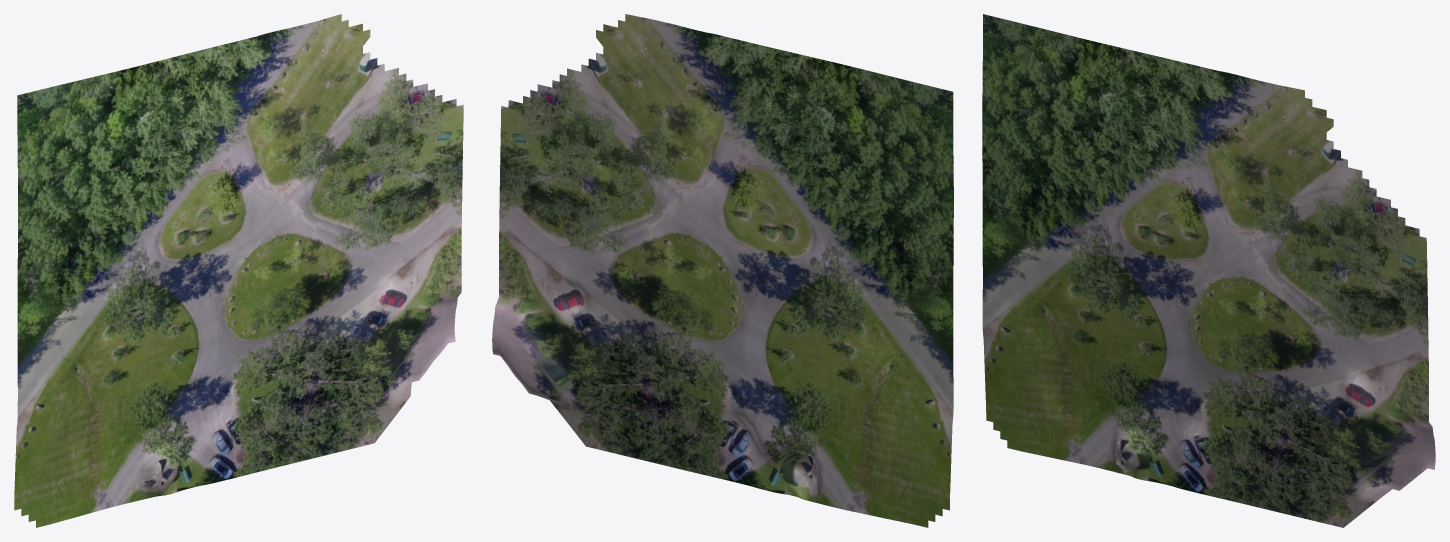
Rendered from odm_textured_model.obj.
3 views of the same model, side by side, from view 1: azimuth 30°, elevation 25°; view 2: azimuth 150°, elevation 25°; view 3: azimuth 330°, elevation 25° (orthographic). The views are drawn at different scales.
Bounding box in the file's own units: 82.09 × 76.79 × 4.52.
Materials: 1 (1 with a texture image).
